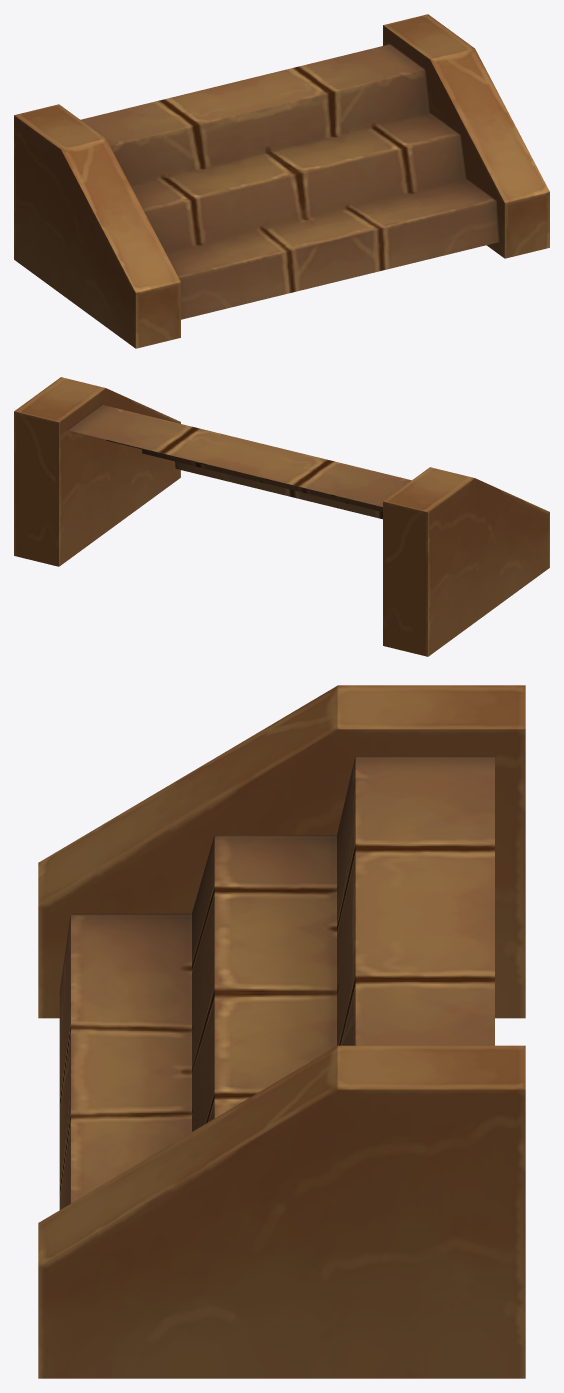
The model's file is td_stairs.fbx.
The picture shows the model from 3 angles, top to bottom: view 1: azimuth 30°, elevation 25°; view 2: azimuth 150°, elevation 25°; view 3: azimuth 270°, elevation 25°; orthographic projection. The views are drawn at different scales.
Visible parts, largest first — view 1: td_stairs; view 2: td_stairs; view 3: td_stairs.
Part boxes in pixels (x1,y1,x2,y2): td_stairs: (14,14,549,348); td_stairs: (14,377,549,656); td_stairs: (38,685,525,1378).
Size of what is drawn, in the model's own units: 2.75 by 0.915 by 1.4.
